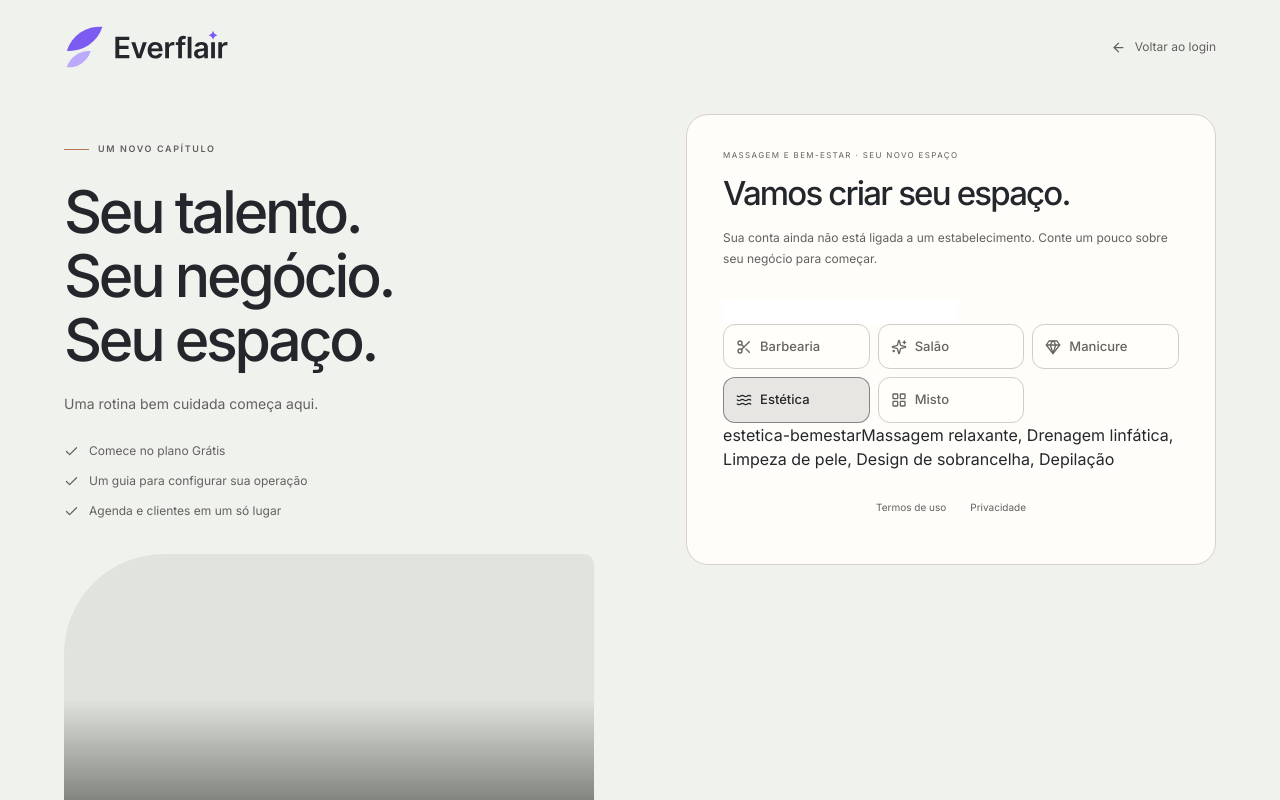
Test case: mantém a preferência de massagem e aplica a mesma sincronização no onboarding
Expected: the text with test id "selected" reads "estetica-bemestar", [723, 425, 861, 445]
Click the button "Salão": (951, 347) [878, 324, 1024, 369]
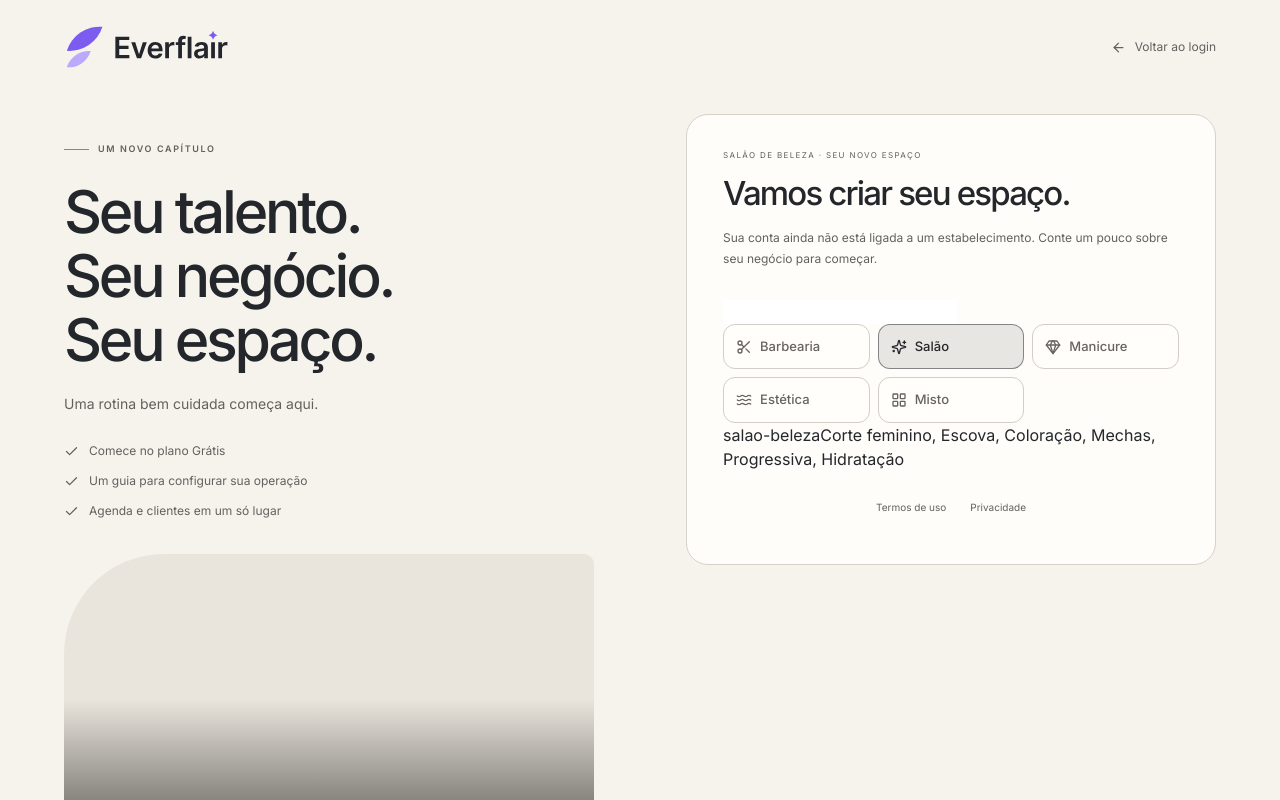
Expected: the text with test id "selected" reads "salao-beleza", [723, 425, 820, 445]
